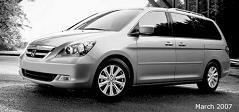car: (21, 2, 233, 100)
